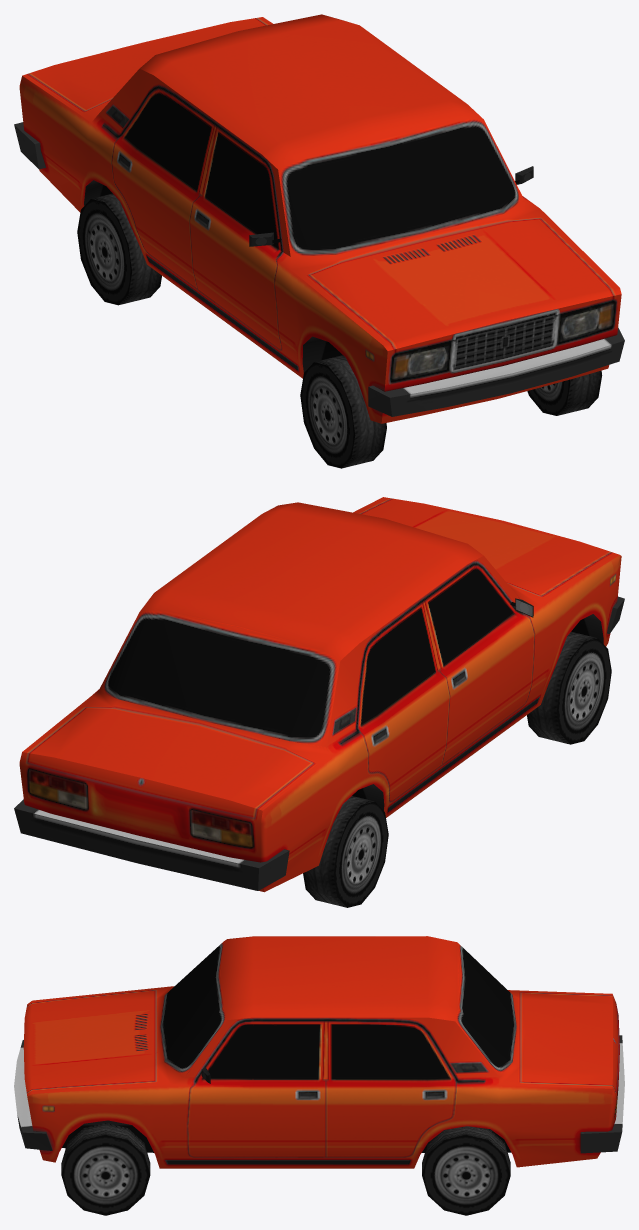
File: lada_red.glb
3 views of the same model, one above another, from view 1: azimuth 30°, elevation 25°; view 2: azimuth 150°, elevation 25°; view 3: azimuth 270°, elevation 25° (orthographic). The views are drawn at different scales.
Visible parts, largest first — view 1: _MeshInstance3D_60, _MeshInstance3D_69, _MeshInstance3D_72, _MeshInstance3D_70; view 2: _MeshInstance3D_60, _MeshInstance3D_72, _MeshInstance3D_69; view 3: _MeshInstance3D_60, _MeshInstance3D_70, _MeshInstance3D_71.
Part boxes in pixels (bbox=[...]): _MeshInstance3D_60: bbox=[14, 14, 624, 423]; _MeshInstance3D_69: bbox=[300, 355, 386, 468]; _MeshInstance3D_72: bbox=[77, 193, 161, 305]; _MeshInstance3D_70: bbox=[527, 370, 602, 415]; _MeshInstance3D_60: bbox=[14, 497, 624, 892]; _MeshInstance3D_72: bbox=[303, 796, 388, 907]; _MeshInstance3D_69: bbox=[527, 631, 611, 744]; _MeshInstance3D_60: bbox=[14, 936, 624, 1168]; _MeshInstance3D_70: bbox=[61, 1123, 150, 1215]; _MeshInstance3D_71: bbox=[422, 1126, 510, 1215].
Size of the model in its own units: 1.78 by 1.5 by 4.1.
Materials: 2 (1 with a texture image).
